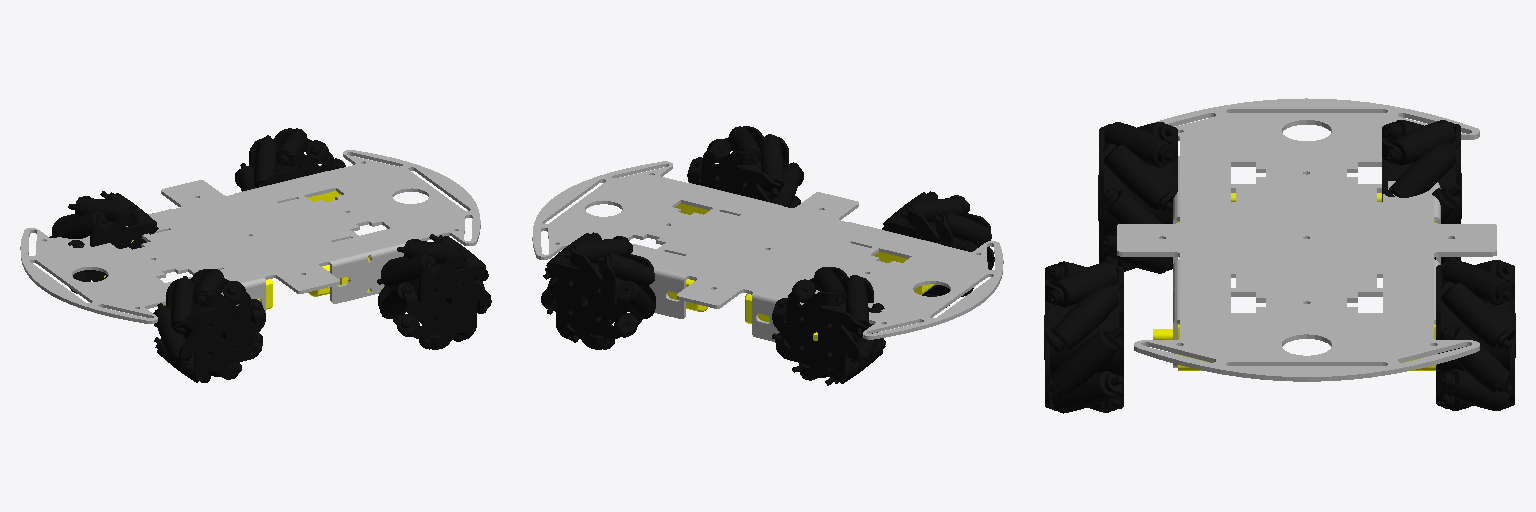
The robot description file, URDF, robot "base_link_only":
<?xml version="1.0"?>
<robot name="base_link_only">
    <material name="silver">
        <color rgba="0.75 0.75 0.75 1.0"/> <!-- Plateado -->
    </material>
    <material name="black">
		<color rgba="0.1 0.1 0.1 1.0"/> <!-- Plomo oscuro metálico -->
	</material>
	<material name="yellow">
        <color rgba="1.0 1.0 0.0 1.0"/> <!-- Amarillo -->
	</material>

    <link name="world"/>

    <link name="base_link">
        <visual>
            <geometry>
                <mesh filename="ME5150_tutorials\modelos\base_movil\meshes\base_scaled_v1.stl"/>
            </geometry>
            <material name="silver"/>
        </visual>
        <inertial>
            <mass value="0.4599"/>
            <origin xyz="0.0 0.0 -0.076005"/>
            <inertia ixx="625100000" ixy="-0.00000302" ixz="-6586" iyy="2636000000" iyz="-0.000002321" izz="2036000000"/>
        </inertial>
    </link>

    <!-- Agregar objeto adicional al enlace base_link -->
    <link name="motor_dc_1">
        <visual>
            <geometry>
				<mesh filename= "ME5150_tutorials\modelos\base_movil\meshes\motor_scaled_v1.stl"/>
			</geometry>
            <material name= "yellow"/>
			<origin xyz="0.0 0.0 0.0" rpy="1.5708 0.0 3.14159"/> <!-- Posición relativa al enlace base_link -->
        </visual>
        <inertial>
            <mass value= "0.182431"/>
            <origin xyz= "0.019353 0.0 0.0"/>
            <inertia ixx= "11974059" ixy="6925" ixz="44273" iyy="60417029" iyz="118" izz="61898680"/>
        </inertial>
    </link>
	<link name="motor_dc_2">
        <visual>
            <geometry>
				<mesh filename= "ME5150_tutorials\modelos\base_movil\meshes\motor_scaled_v1.stl"/>
			</geometry>
            <material name= "yellow"/>
			<origin xyz="0.0 0.0 0.0" rpy="1.5708 0.0 3.14159"/> <!-- Posición relativa al enlace base_link -->
        </visual>
        <inertial>
            <mass value= "0.182431"/>
            <origin xyz= "0.019353 0.0 0.0"/>
            <inertia ixx= "11974059" ixy="6925" ixz="44273" iyy="60417029" iyz="118" izz="61898680"/>
        </inertial>
    </link>
	<link name="motor_dc_3">
        <visual>
            <geometry>
				<mesh filename= "ME5150_tutorials\modelos\base_movil\meshes\motor_scaled_v1.stl"/>
			</geometry>
            <material name= "yellow"/>
			<origin xyz="0.0 0.0 0.0" rpy="1.5708 0.0 0.0"/> <!-- Posición relativa al enlace base_link -->
        </visual>
        <inertial>
            <mass value= "0.182431"/>
            <origin xyz= "0.019353 0.0 0.0"/>
            <inertia ixx= "11974059" ixy="6925" ixz="44273" iyy="60417029" iyz="118" izz="61898680"/>
        </inertial>
    </link>
	<link name="motor_dc_4">
        <visual>
            <geometry>
				<mesh filename= "ME5150_tutorials\modelos\base_movil\meshes\motor_scaled_v1.stl"/>
			</geometry>
            <material name= "yellow"/>
			<origin xyz="0.0 0.0 0.0" rpy="1.5708 0.0 0.0"/> <!-- Posición relativa al enlace base_link -->
        </visual>
        <inertial>
            <mass value= "0.182431"/>
            <origin xyz= "0.019353 0.0 0.0"/>
            <inertia ixx= "11974059" ixy="6925" ixz="44273" iyy="60417029" iyz="118" izz="61898680"/>
        </inertial>
    </link>
    
    <joint name="fixed_joint" type="fixed">
        <parent link="world"/>
        <child link="base_link"/>
        <origin xyz="0 0 -0.37"/>
    </joint>
    
    <!-- Joint entre base_link y el objeto adicional -->
    <joint name="motor_dc_1_joint" type="fixed">
        <parent link="base_link"/>
        <child link="motor_dc_1"/>
        <origin xyz="0.06425 0.041487 0.0" rpy="0.0 0.0 0.0"/>
    </joint>
	<joint name="motor_dc_2_joint" type="fixed">
        <parent link="base_link"/>
        <child link="motor_dc_2"/>
        <origin xyz="0.06425 -0.041487 0.0" rpy="0.0 0.0 0.0"/>
    </joint>
	<joint name="motor_dc_3_joint" type="fixed">
        <parent link="base_link"/>
        <child link="motor_dc_3"/>
        <origin xyz="-0.06425 0.041487 0.0" rpy="0.0 0.0 0.0"/>
    </joint>
	<joint name="motor_dc_4_joint" type="fixed">
        <parent link="base_link"/>
        <child link="motor_dc_4"/>
        <origin xyz="-0.06425 -0.041487 0.0" rpy="0.0 0.0 0.0"/>
    </joint>
    
	<link name="wheel_1">
        <visual>
            <geometry>
                <mesh filename="ME5150_tutorials\modelos\base_movil\meshes\ruedader.stl"/>
            </geometry>
            <material name="black"/>
			<origin xyz="0.0 0.0 0.0" rpy="1.5708 0.0 0.0"/>
        </visual>
        <inertial>
            <mass value="0.27282"/>
            <origin xyz="0.0 0.0 0.0"/>
            <inertia ixx="60736443" ixy="-0.0003584" ixz="-0.00000956" iyy="60741948" iyz="-0.0001412" izz="71971219"/>
        </inertial>
    </link>
	<link name="wheel_2">
        <visual>
            <geometry>
                <mesh filename="ME5150_tutorials\modelos\base_movil\meshes\ruedaizq.stl"/>
            </geometry>
            <material name="black"/>
			<origin xyz="0.0 0.0 0.0" rpy="1.5708 3.14 0.0"/>
        </visual>
        <inertial>
            <mass value="0.27282"/>
            <origin xyz="0.0 0.0 0.0"/>
            <inertia ixx="60736443" ixy="-0.0003584" ixz="-0.00000956" iyy="60741948" iyz="-0.0001412" izz="71971219"/>
        </inertial>
    </link>
	<link name="wheel_3">
        <visual>
            <geometry>
                <mesh filename="ME5150_tutorials\modelos\base_movil\meshes\ruedaizq.stl"/>
            </geometry>
            <material name="black"/>
			<origin xyz="0.0 0.0 0.0" rpy="1.5708 0.0 0.0"/>
        </visual>
        <inertial>
            <mass value="0.27282"/>
            <origin xyz="0.0 0.0 0.0"/>
            <inertia ixx="60736443" ixy="-0.0003584" ixz="-0.00000956" iyy="60741948" iyz="-0.0001412" izz="71971219"/>
        </inertial>
    </link>
	<link name="wheel_4">
        <visual>
            <geometry>
                <mesh filename="ME5150_tutorials\modelos\base_movil\meshes\ruedader.stl"/>
            </geometry>
            <material name="black"/>
			<origin xyz="0.0 0.0 0.0" rpy="1.5708 0.0 0.0"/>
        </visual>
        <inertial>
            <mass value="0.27282"/>
            <origin xyz="0.0 0.0 0.0"/>
            <inertia ixx="60736443" ixy="-0.0003584" ixz="-0.00000956" iyy="60741948" iyz="-0.0001412" izz="71971219"/>
        </inertial>
    </link>

    <joint name="rueda1" type="revolute">
        <parent link="motor_dc_1"/>
        <child link="wheel_1"/>
        <origin xyz="0.0 0.025 0.0"/>
        <axis xyz="0 0 1"/>
		<limit effort="100" velocity="3.14" lower="-3.1416" upper="3.1416"/> <!-- Límites de rotación en radianes -->
    </joint>
	<joint name="rueda2" type="revolute">
        <parent link="motor_dc_2"/>
        <child link="wheel_2"/>
        <origin xyz="0.0 -0.025 0.0"/>
        <axis xyz="0 0 1"/>
		<limit effort="100" velocity="3.14" lower="-3.1416" upper="3.1416"/> <!-- Límites de rotación en radianes -->
    </joint>
	<joint name="rueda3" type="revolute">
        <parent link="motor_dc_3"/>
        <child link="wheel_3"/>
        <origin xyz="0.0 0.025 0.0"/>
        <axis xyz="0 0 1"/>
		<limit effort="100" velocity="3.14" lower="-3.1416" upper="3.1416"/> <!-- Límites de rotación en radianes -->
    </joint>
	<joint name="rueda4" type="revolute">
        <parent link="motor_dc_4"/>
        <child link="wheel_4"/>
        <origin xyz="0.0 -0.025 0.0"/>
        <axis xyz="0 0 1"/>
		<limit effort="100" velocity="3.14" lower="-3.1416" upper="3.1416"/> <!-- Límites de rotación en radianes -->
    </joint>
</robot>

--- What the picture shows (computed from the rendered views, not written in the file) ---
Views: 3 orthographic renders of the robot side by side, from view 1: azimuth 30°, elevation 25°; view 2: azimuth 150°, elevation 25°; view 3: azimuth 270°, elevation 25°.
Robot: base_link_only — 10 links, 9 joints (4 revolute, 5 fixed); root link world; default pose: all joints at 0.
Links seen in each view (by area): view 1: base_link, wheel_2, wheel_4, wheel_3, wheel_1; view 2: base_link, wheel_1, wheel_3, wheel_2, wheel_4; view 3: base_link, wheel_2, wheel_1, wheel_4, wheel_3.
Boxes of the visible links, x1=… form: base_link: x1=20, y1=150, x2=480, y2=323; wheel_2: x1=377, y1=234, x2=491, y2=349; wheel_4: x1=153, y1=269, x2=265, y2=382; wheel_3: x1=49, y1=191, x2=158, y2=293; wheel_1: x1=235, y1=128, x2=345, y2=191; base_link: x1=532, y1=161, x2=1003, y2=341; wheel_1: x1=541, y1=232, x2=655, y2=349; wheel_3: x1=772, y1=267, x2=885, y2=385; wheel_2: x1=687, y1=126, x2=803, y2=207; wheel_4: x1=882, y1=191, x2=994, y2=307; base_link: x1=1117, y1=98, x2=1496, y2=381; wheel_2: x1=1044, y1=261, x2=1123, y2=413; wheel_1: x1=1436, y1=260, x2=1515, y2=410; wheel_4: x1=1098, y1=122, x2=1177, y2=273; wheel_3: x1=1382, y1=120, x2=1461, y2=263.
Size in the robot's own frame: 0.26 by 0.1857 by 0.0596 metres.
9 mesh visuals loaded from 4 distinct referenced files (4 binary STL).
